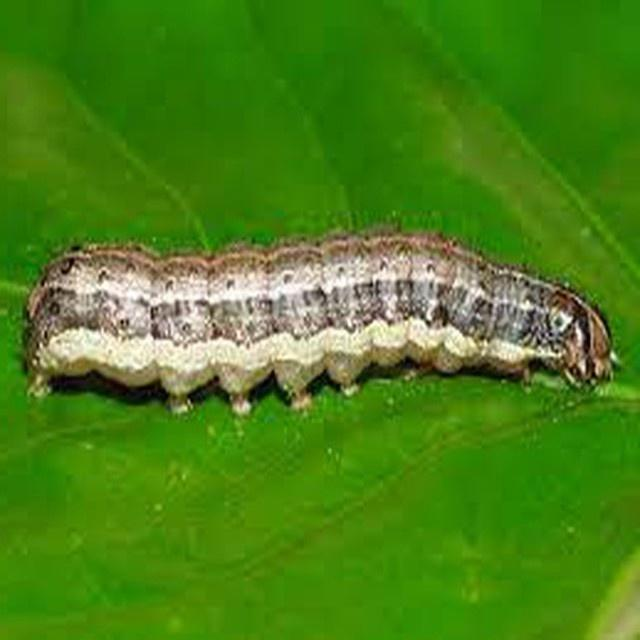gusano_cogollero: (15, 216, 626, 410)
